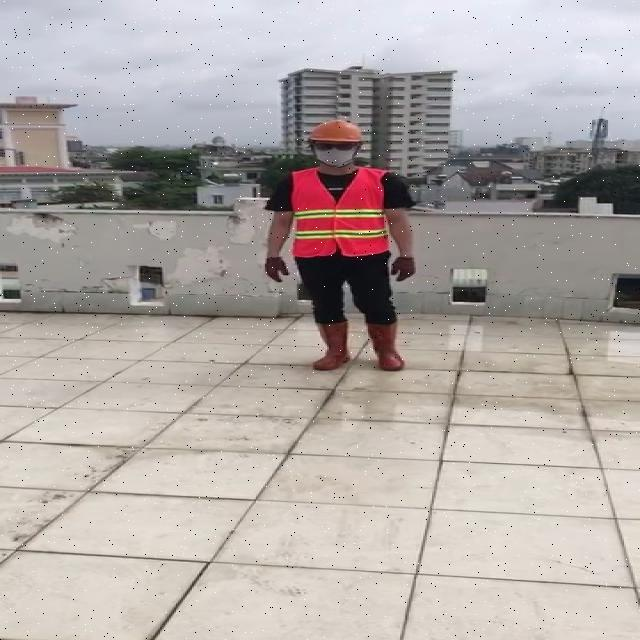Hard_hat: (305, 117, 367, 150)
Vest: (290, 167, 393, 264)
